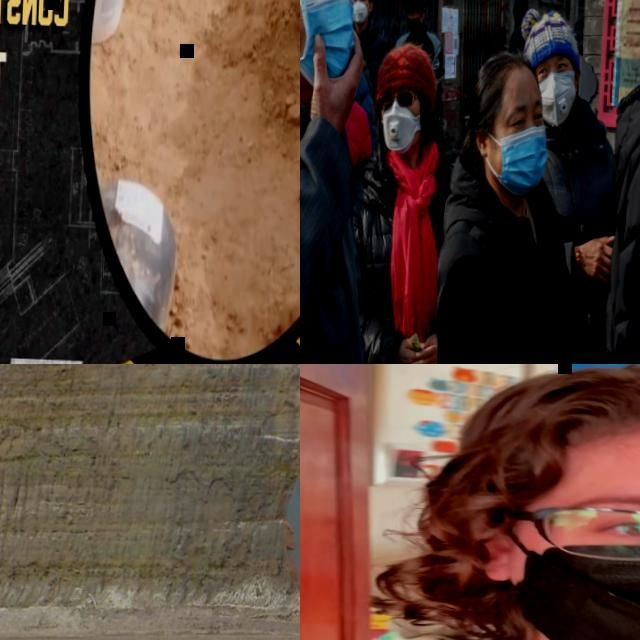Mask: (495, 525, 640, 640), (300, 0, 358, 93), (495, 122, 549, 198), (538, 68, 579, 127), (380, 101, 419, 156), (351, 0, 368, 24), (407, 19, 422, 35)
NO-Hardhat: (474, 364, 640, 490), (472, 51, 542, 113), (376, 42, 439, 98), (522, 7, 581, 62), (402, 0, 423, 10), (511, 0, 528, 8), (574, 18, 585, 30)
NO-Safety Vest: (300, 57, 388, 364), (356, 146, 464, 364), (443, 205, 586, 364), (536, 121, 614, 364), (355, 37, 380, 82), (573, 30, 584, 51), (511, 25, 521, 48)
Person: (300, 364, 640, 640), (508, 7, 625, 364), (506, 0, 530, 55), (573, 13, 584, 51)
